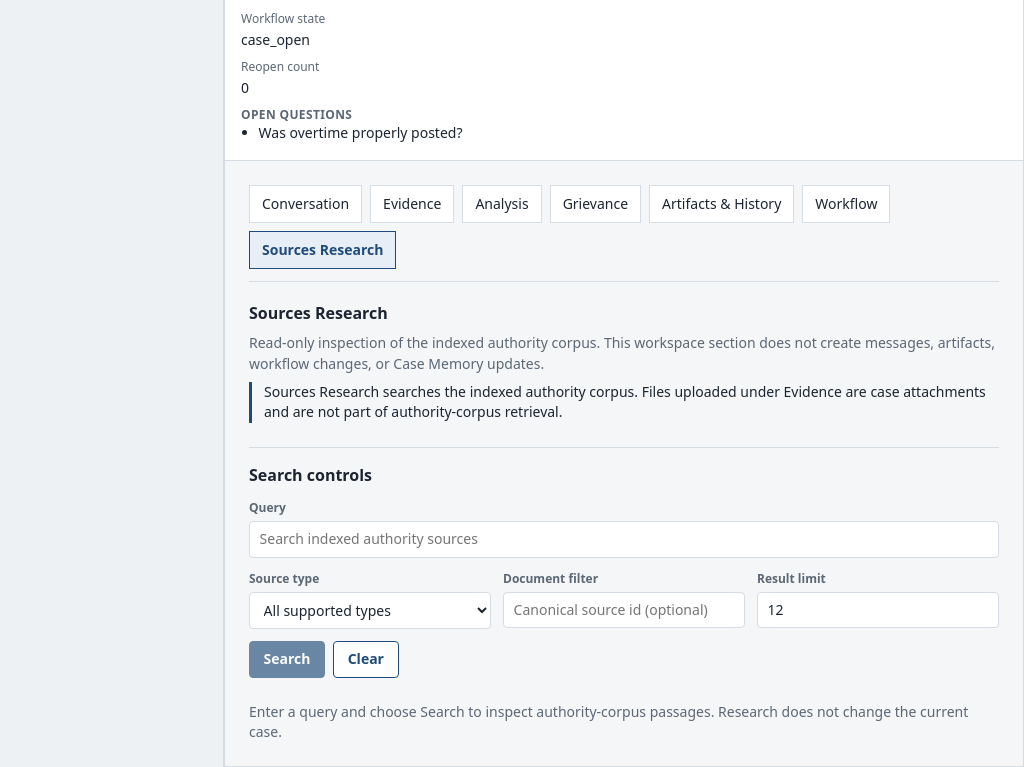
Test: W6 M9 Sources Research › searches via browser-safe research endpoint without API key or /sources
The image size is (1024, 767).
(page scrolled)
In the search field labelled "Query": (624, 539) x1=249 y1=521 x2=999 y2=558, type "overtime article 16"
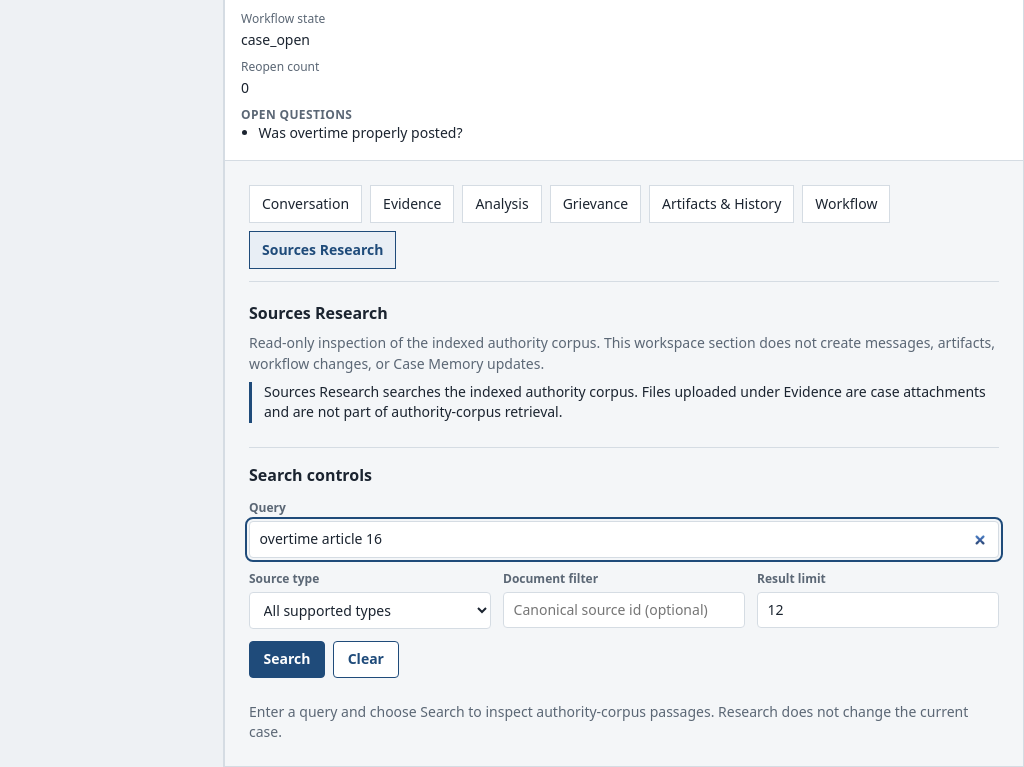
Select "National Agreement" in the dropdown labelled "Source type": (370, 610) x1=249 y1=592 x2=491 y2=629
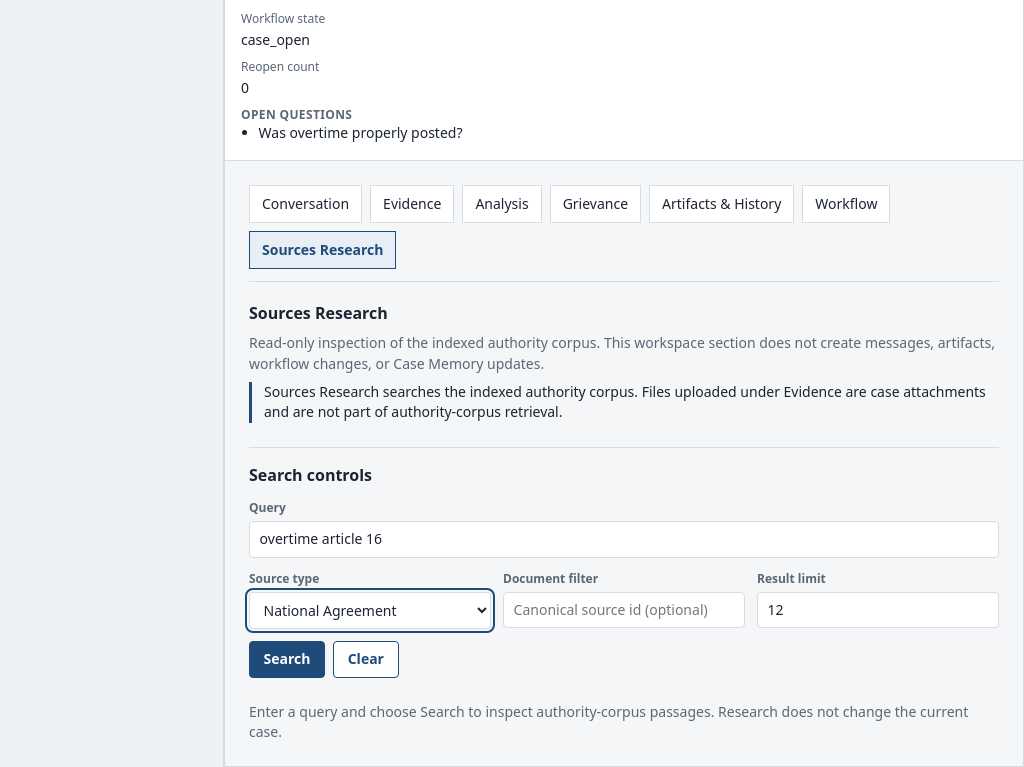
Replace the text in the number field labelled "Result limit" with "5": (878, 610) x1=757 y1=592 x2=999 y2=628
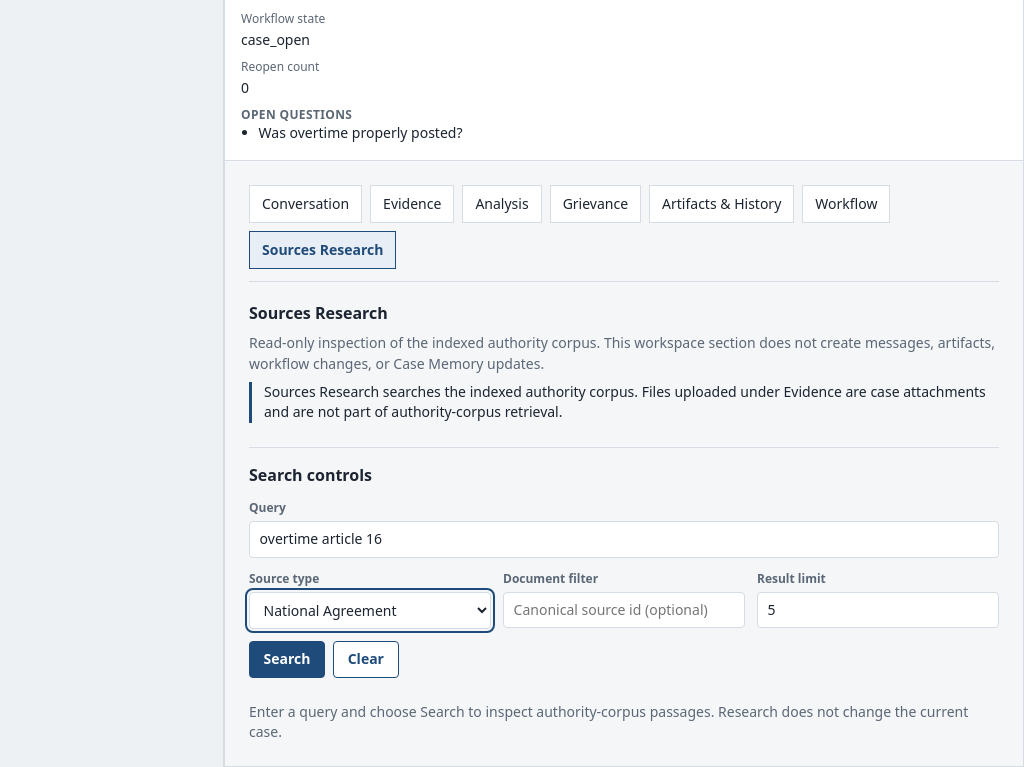
Click the button "Search": (287, 660) x1=249 y1=641 x2=325 y2=678
(page scrolled)
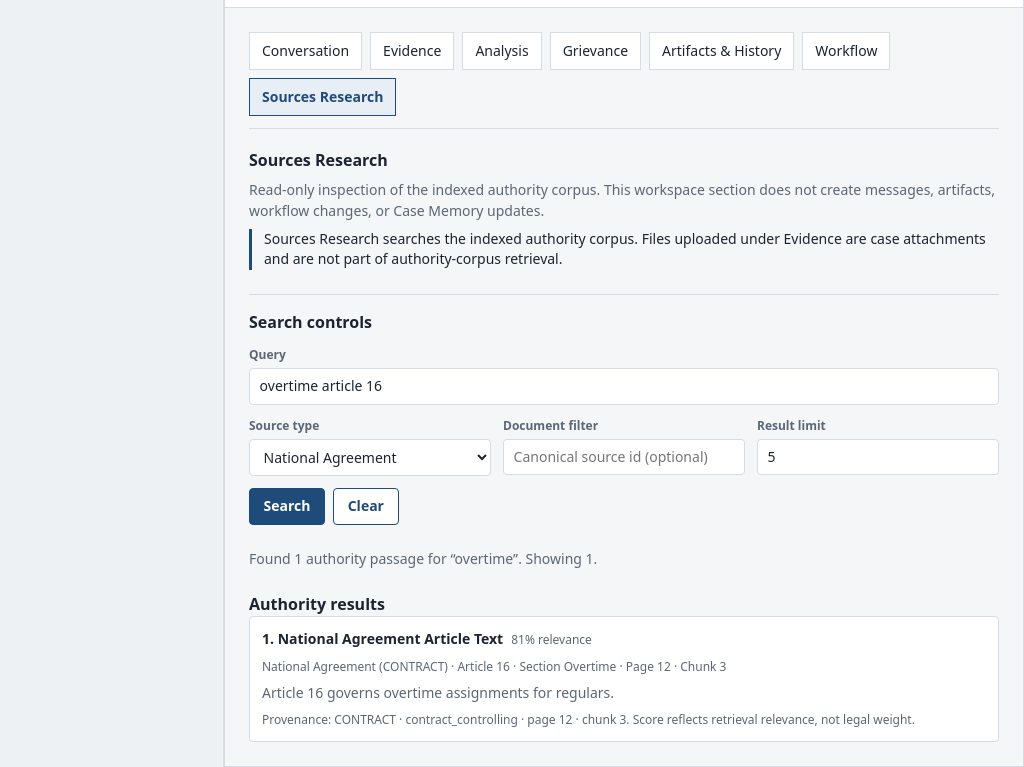
Expected: the heading "1. National Agreement Article Text" is shown, x1=262 y1=629 x2=503 y2=650
